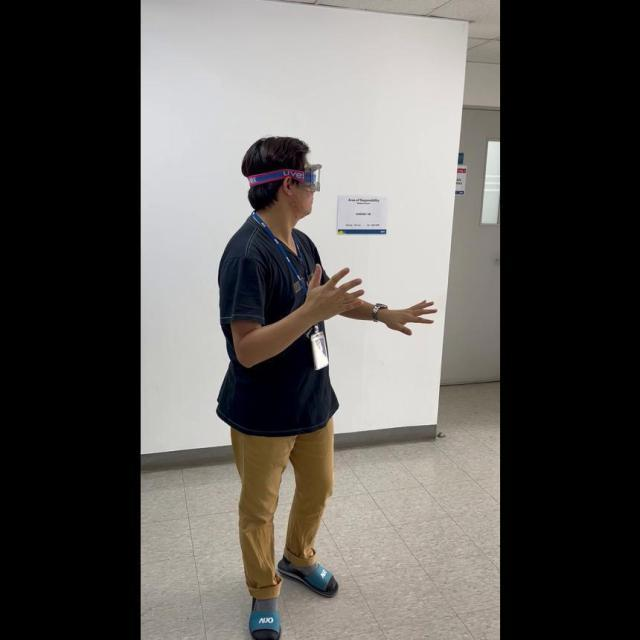bare_hand: (300, 258, 366, 317), (372, 294, 438, 334)
